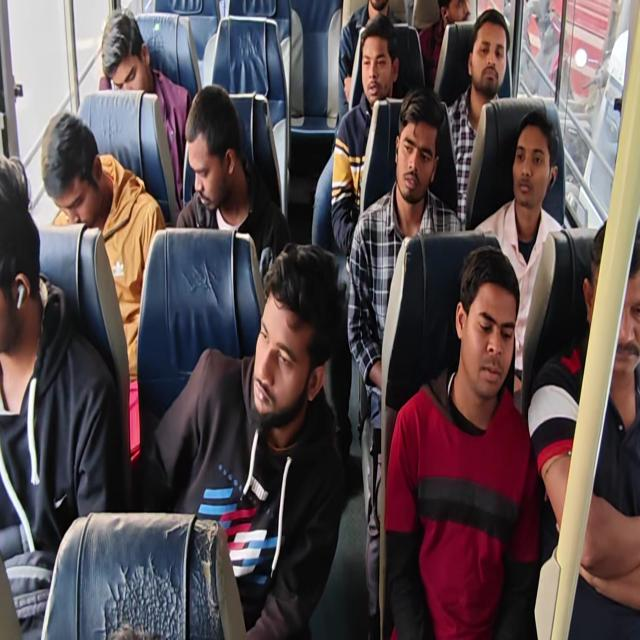person: (248, 247, 321, 428), (579, 220, 640, 394), (455, 261, 516, 417), (0, 158, 43, 350), (39, 118, 109, 229), (92, 15, 156, 116), (189, 111, 239, 210), (396, 99, 435, 208), (508, 123, 554, 205), (472, 18, 514, 102), (356, 31, 394, 101), (350, 0, 398, 27), (436, 0, 474, 32)
